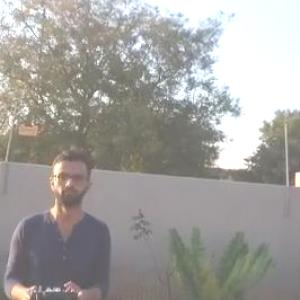follow: (0, 149, 113, 299)
